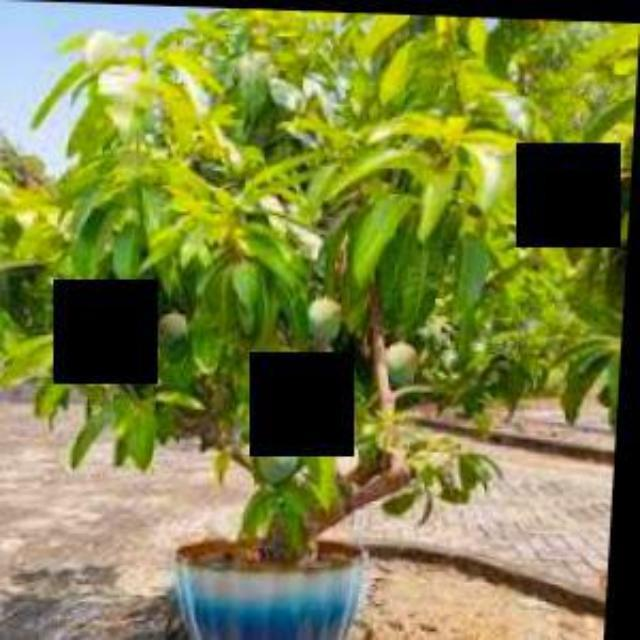tree: (0, 0, 614, 638)
